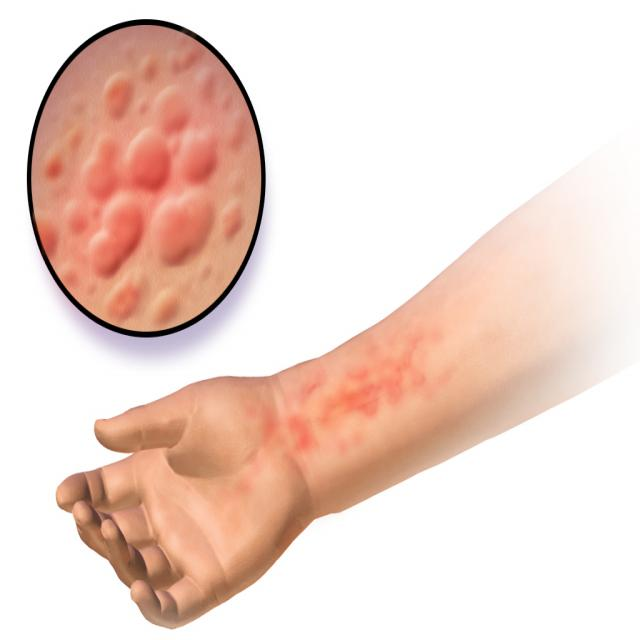hives: (277, 308, 450, 518)
